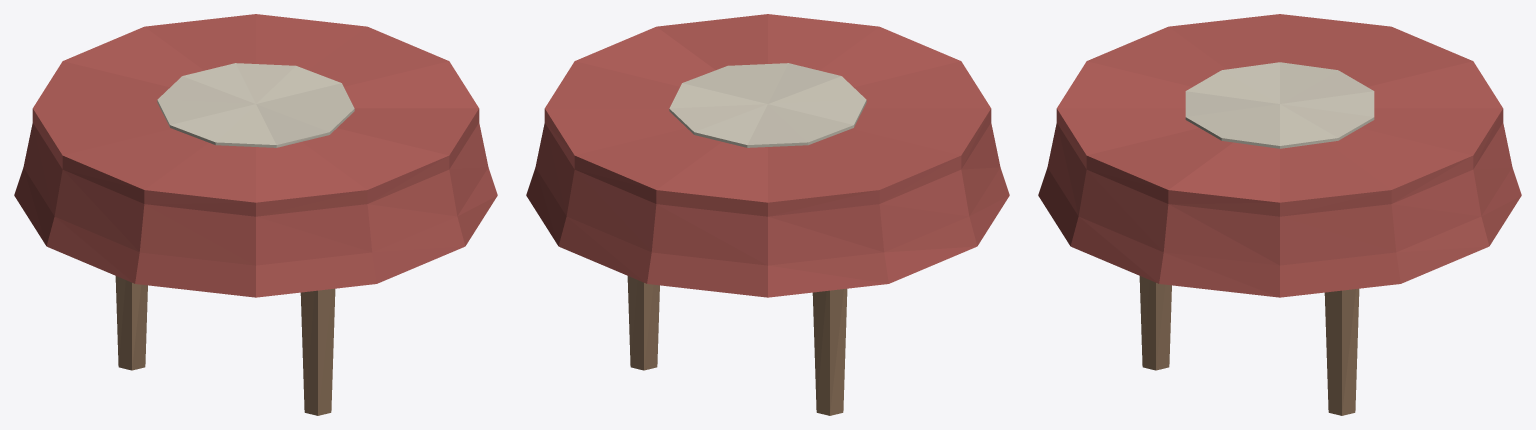
The model's file is table_round_cloth.glb.
3 renders of one model, left to right at view 1: azimuth 30°, elevation 25°; view 2: azimuth 150°, elevation 25°; view 3: azimuth 270°, elevation 25°, orthographic.
Visible parts, largest first — view 1: table_round_cloth; view 2: table_round_cloth; view 3: table_round_cloth.
Boxes of the visible parts, <box> form: table_round_cloth: <box>14,14,497,415</box>; table_round_cloth: <box>526,14,1009,415</box>; table_round_cloth: <box>1038,14,1521,415</box>.
Bounding box in the file's own units: 1.56 × 0.925 × 1.56.
